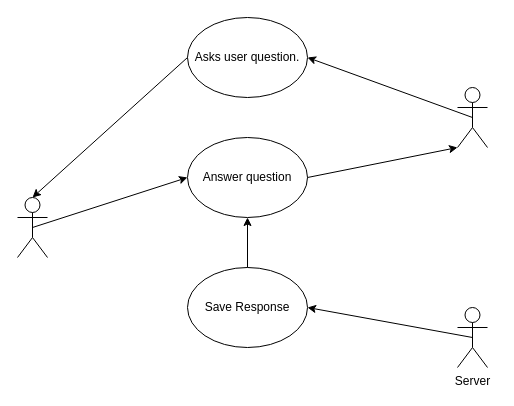
The diagram is 514 pixels wide and 406 high, and some of its shapes have lost their labels. Here are the shapes that lost their labels. From the top down, the centre of each, then its label:
point (472, 117): Therabot
point (32, 227): User
